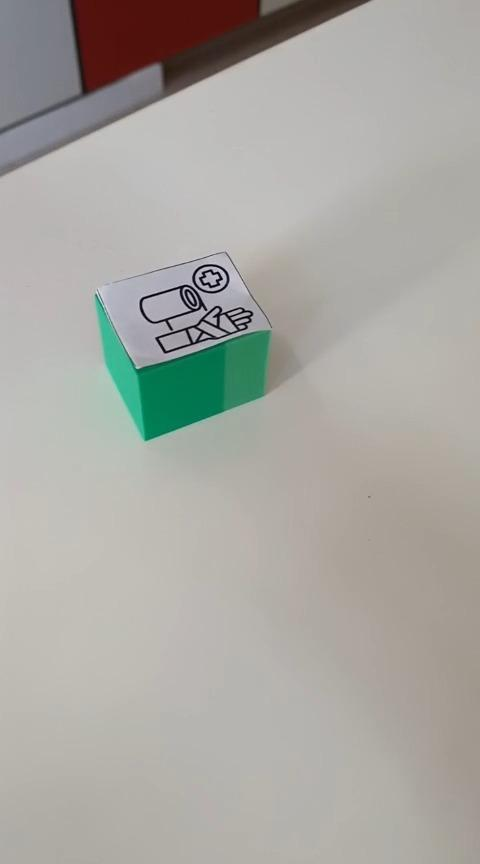Bandages: (93, 249, 273, 441)
